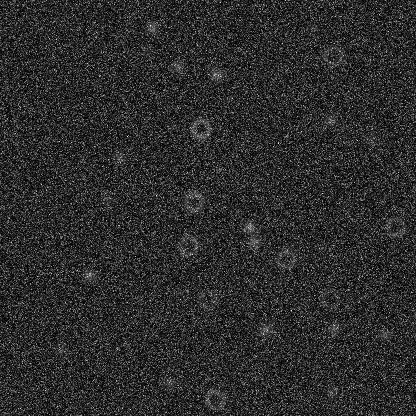Ring: (321, 43, 345, 67), (383, 214, 407, 238), (273, 246, 297, 270), (203, 387, 227, 411), (188, 116, 212, 140), (176, 233, 200, 257), (181, 189, 205, 213), (317, 286, 341, 310), (335, 121, 359, 145), (195, 287, 219, 311)
Spot: (161, 374, 177, 390), (323, 383, 339, 399), (110, 148, 126, 164), (81, 266, 97, 282), (322, 112, 338, 128), (99, 191, 115, 207), (245, 233, 261, 249), (376, 326, 392, 342), (362, 131, 378, 147), (272, 273, 288, 289), (257, 321, 273, 337), (176, 286, 192, 302), (143, 19, 159, 35), (207, 66, 223, 82), (241, 219, 257, 235), (138, 42, 154, 58), (325, 320, 341, 336), (303, 21, 319, 37), (53, 342, 69, 358), (169, 58, 185, 74)
